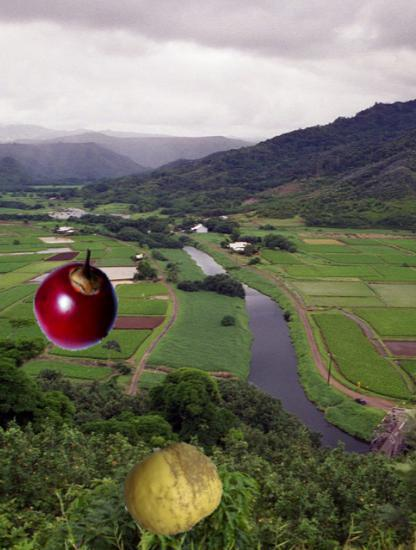Apple: (122, 440, 222, 540)
Tamarillo: (31, 257, 126, 352)
